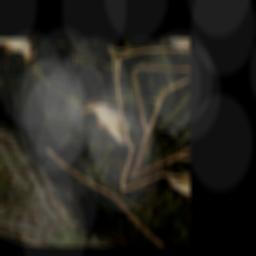Cuckoo: (61, 90, 159, 181)
